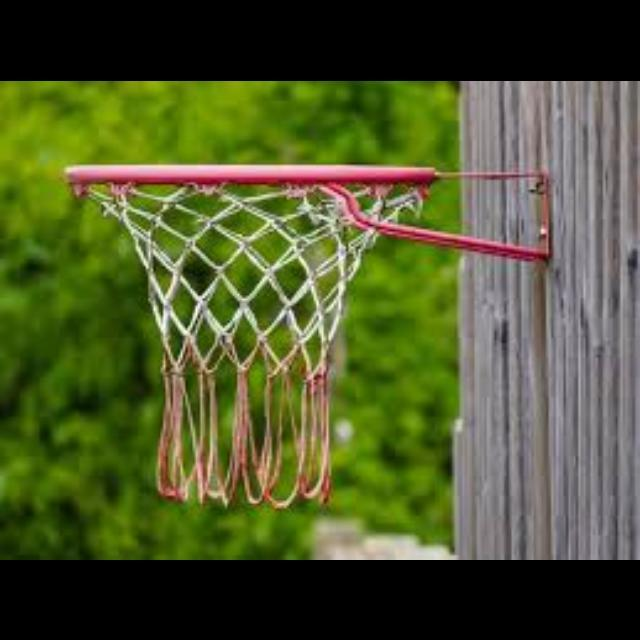rim: (67, 162, 435, 504)
